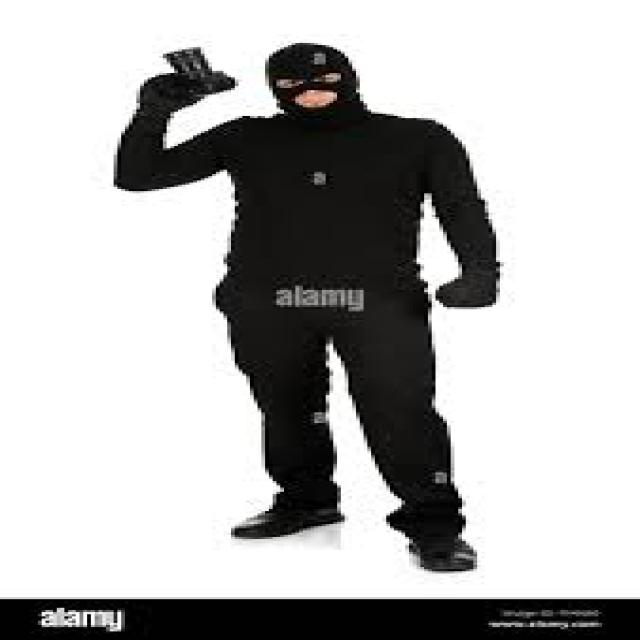person-with-mask: (46, 18, 640, 576)
